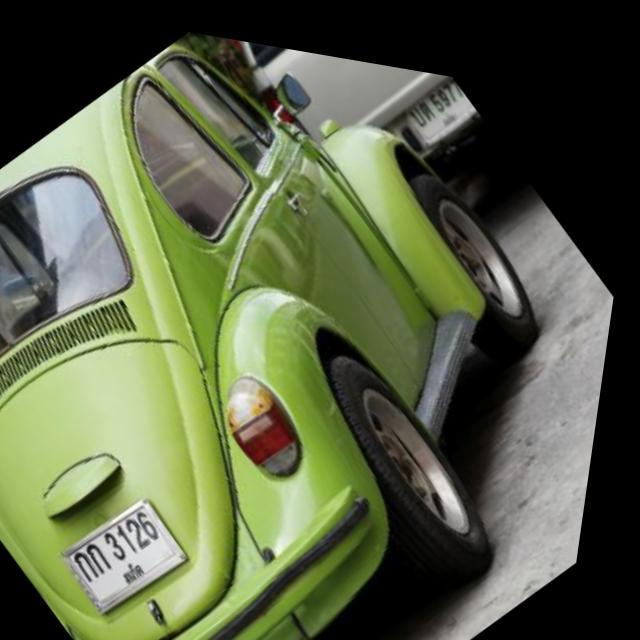license_plate: (65, 474, 212, 624), (401, 55, 484, 139)
